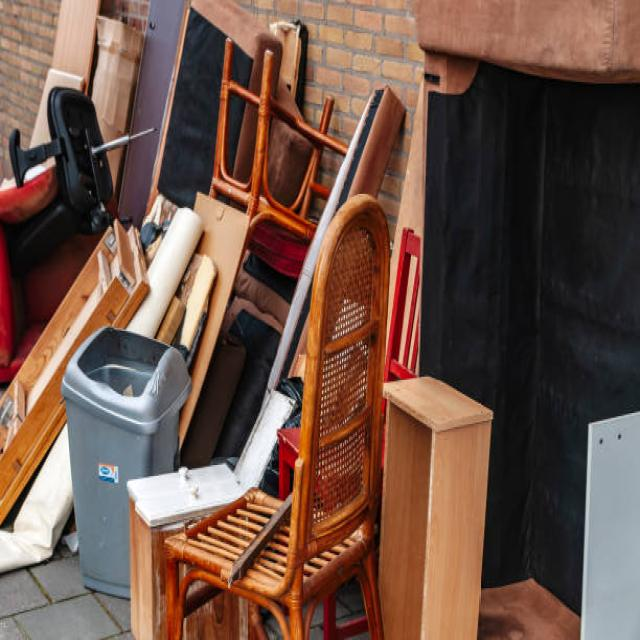cardboard: (39, 42, 237, 317)
plastic: (50, 331, 177, 534)
